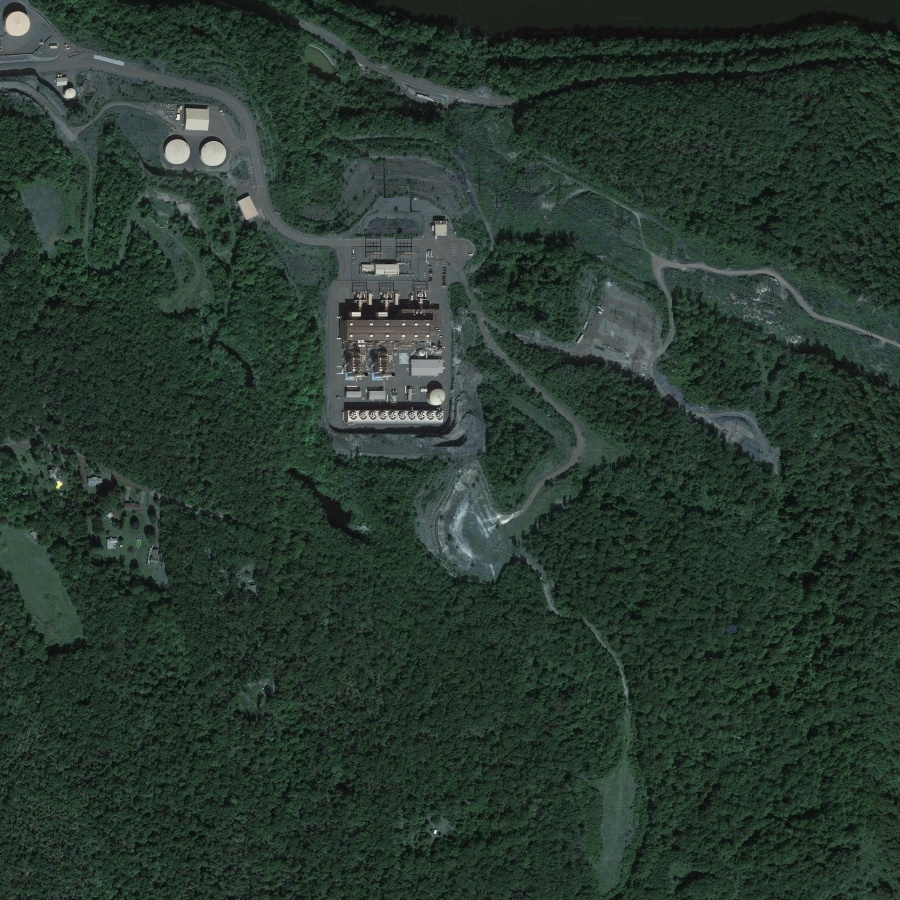PowerPlant: (330, 200, 476, 440)
